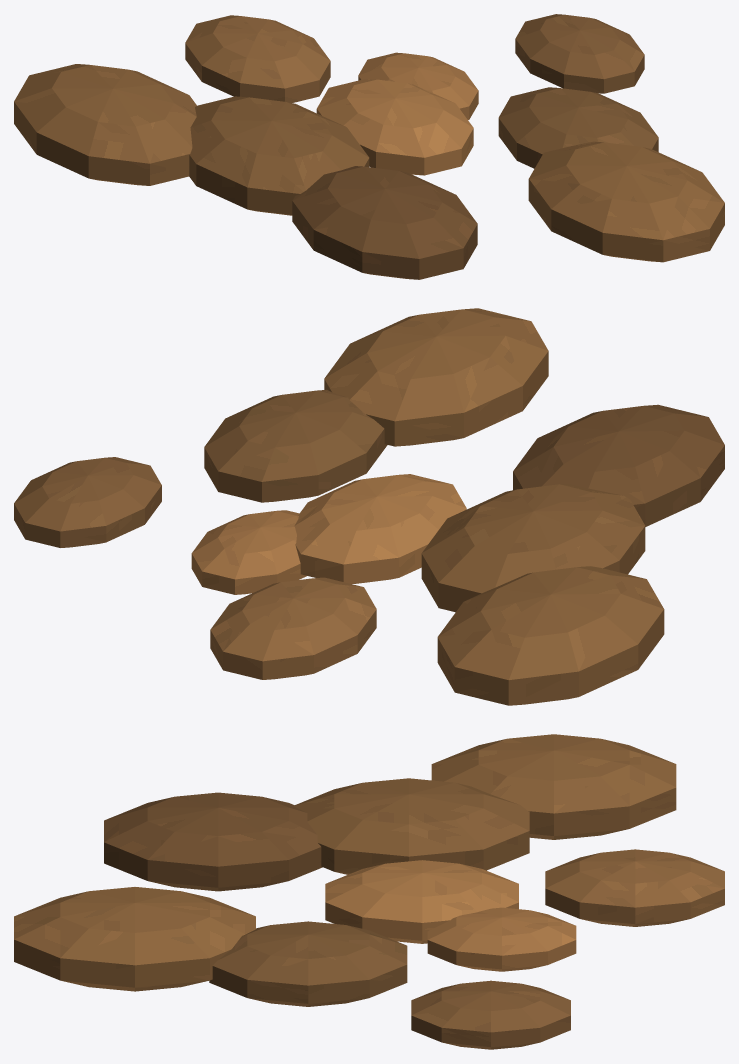
The model's file is seed_kale.glb.
The picture shows the model from 3 angles, top to bottom: view 1: azimuth 30°, elevation 25°; view 2: azimuth 150°, elevation 25°; view 3: azimuth 270°, elevation 25°; orthographic projection. The views are drawn at different scales.
Parts seen in each view (by area): view 1: block_grain 8, block_grain 7, block_grain 5, block_grain 2, block_grain 0, block_grain 4, block_grain 3, block_grain 6, block_grain 1; view 2: block_grain 7, block_grain 8, block_grain 2, block_grain 5, block_grain 3, block_grain 0, block_grain 4, block_grain 6, block_grain 1; view 3: block_grain 8, block_grain 7, block_grain 5, block_grain 2, block_grain 3, block_grain 4, block_grain 0, block_grain 6, block_grain 1.
Part boxes in pixels (x1,y1,x2,y2): block_grain 8: [528, 141, 724, 262]; block_grain 7: [14, 64, 196, 185]; block_grain 5: [292, 166, 477, 279]; block_grain 2: [189, 96, 369, 215]; block_grain 0: [316, 78, 473, 175]; block_grain 4: [185, 15, 330, 102]; block_grain 3: [498, 87, 658, 168]; block_grain 6: [515, 14, 644, 93]; block_grain 1: [358, 52, 478, 119]; block_grain 7: [437, 566, 664, 705]; block_grain 8: [324, 308, 548, 446]; block_grain 2: [421, 483, 645, 612]; block_grain 5: [513, 404, 724, 526]; block_grain 3: [204, 389, 387, 502]; block_grain 0: [294, 474, 466, 583]; block_grain 4: [210, 577, 376, 679]; block_grain 6: [14, 457, 161, 547]; block_grain 1: [191, 510, 306, 594]; block_grain 8: [14, 887, 255, 991]; block_grain 7: [431, 734, 676, 839]; block_grain 5: [104, 792, 322, 891]; block_grain 2: [294, 778, 529, 874]; block_grain 3: [209, 921, 407, 1006]; block_grain 4: [545, 849, 724, 926]; block_grain 0: [325, 860, 518, 943]; block_grain 6: [411, 980, 570, 1049]; block_grain 1: [427, 907, 576, 971].
Bounding box in the file's own units: 0.0204 × 0.0025 × 0.022.
1 material, 1 textured.
